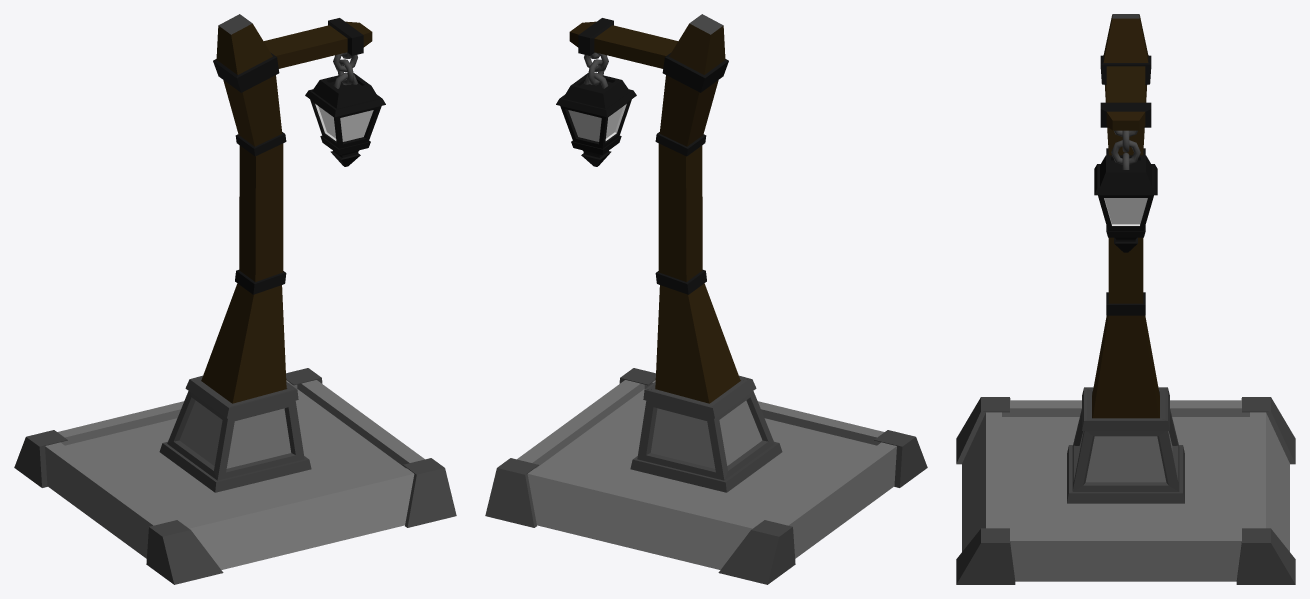
Rendered from lantern.fbx.
The picture shows the model from 3 angles, left to right: view 1: azimuth 30°, elevation 25°; view 2: azimuth 150°, elevation 25°; view 3: azimuth 270°, elevation 25°; orthographic projection. The views are drawn at different scales.
Parts seen in each view (by area): view 1: Cube.002; view 2: Cube.002; view 3: Cube.002.
Part boxes in pixels (bbox=[...]): Cube.002: bbox=[14, 14, 456, 584]; Cube.002: bbox=[485, 14, 927, 584]; Cube.002: bbox=[956, 14, 1295, 584].
Bounding box in the file's own units: 65.95 × 105 × 64.77.
